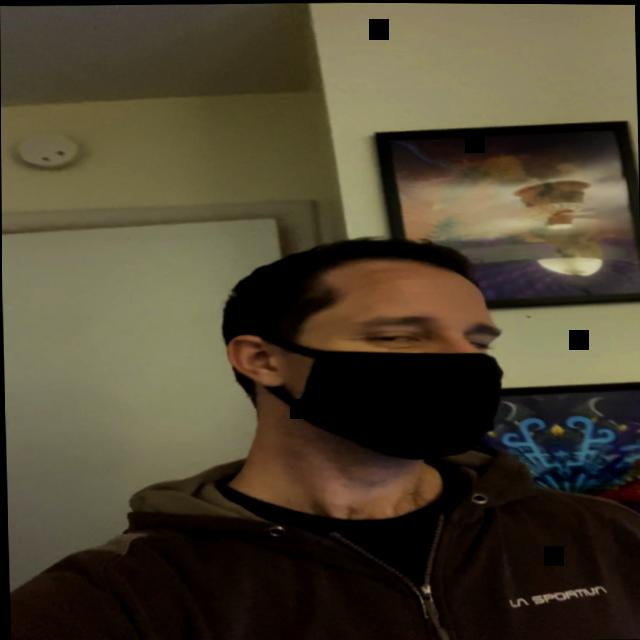Mask: (223, 247, 518, 475)
